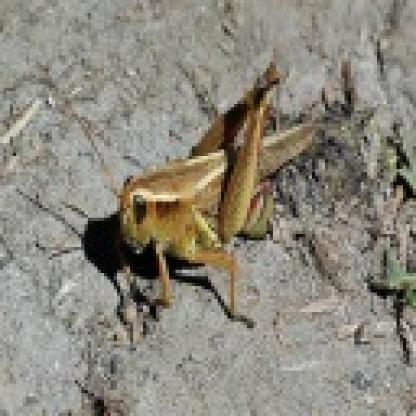grasshopper: (110, 65, 312, 318)
